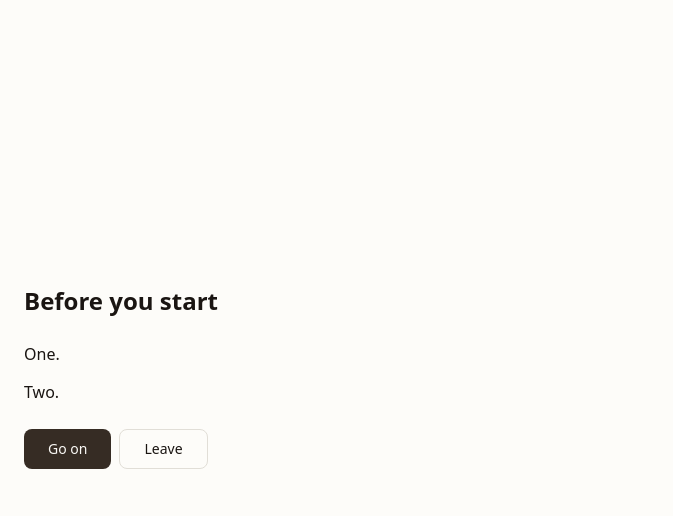
the pages › goes from the gate to the title, into the game, and back through the menu
The image size is (673, 516).
Check: the heading "Before you start" is shown, box [24, 284, 218, 317]
Click the button "Go on" at [68, 449], box [24, 429, 111, 469]
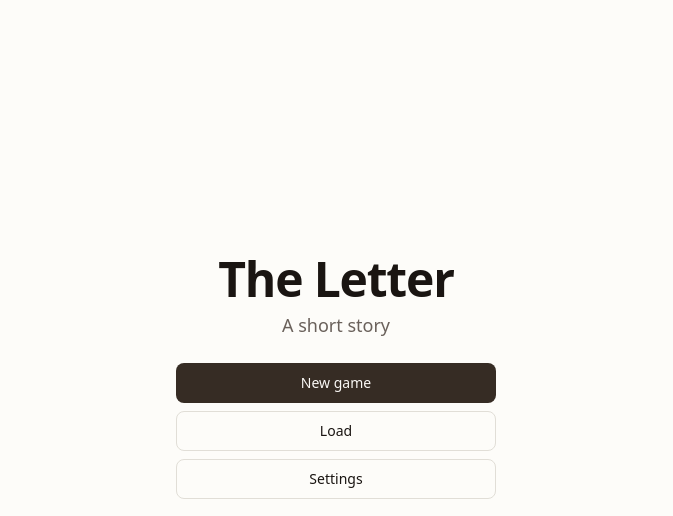
Check: the text "A short story" is shown, box [282, 313, 390, 337]
Check: the heading "The Letter" is shown, box [218, 246, 454, 311]
Click the button "New game" at [336, 383], box [176, 363, 496, 403]
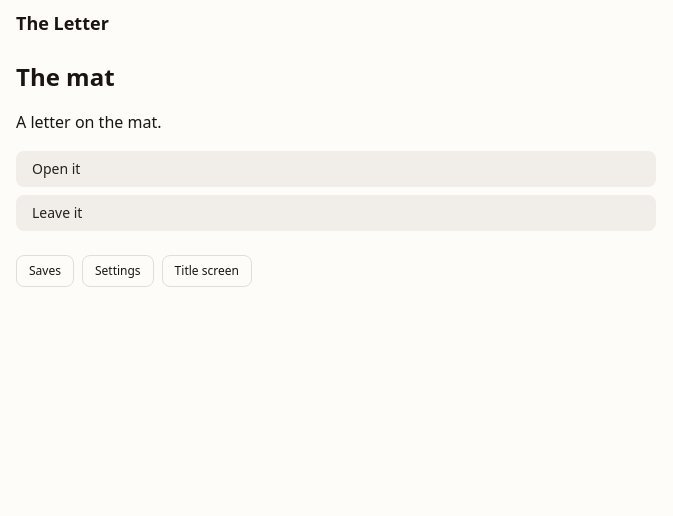
Check: the text "A letter on the mat." is shown, box [16, 111, 162, 133]
Click the button "Title screen" at [207, 271], box [162, 255, 252, 287]
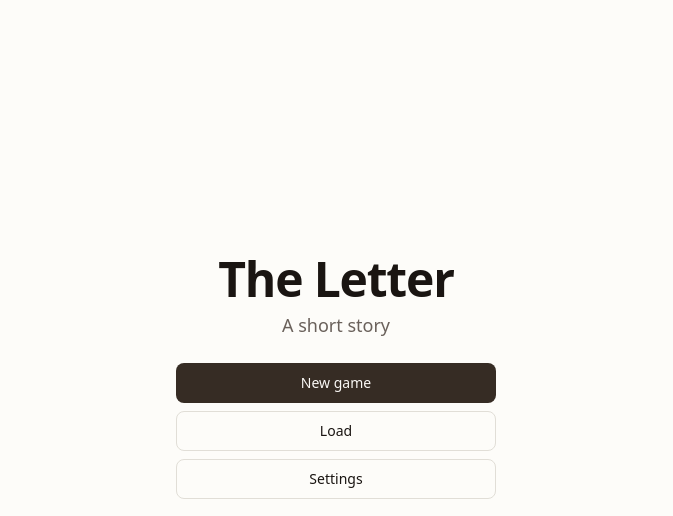
Check: the element showing "The Letter A short story New game Load Settings" is shown, box [176, 246, 496, 499]
